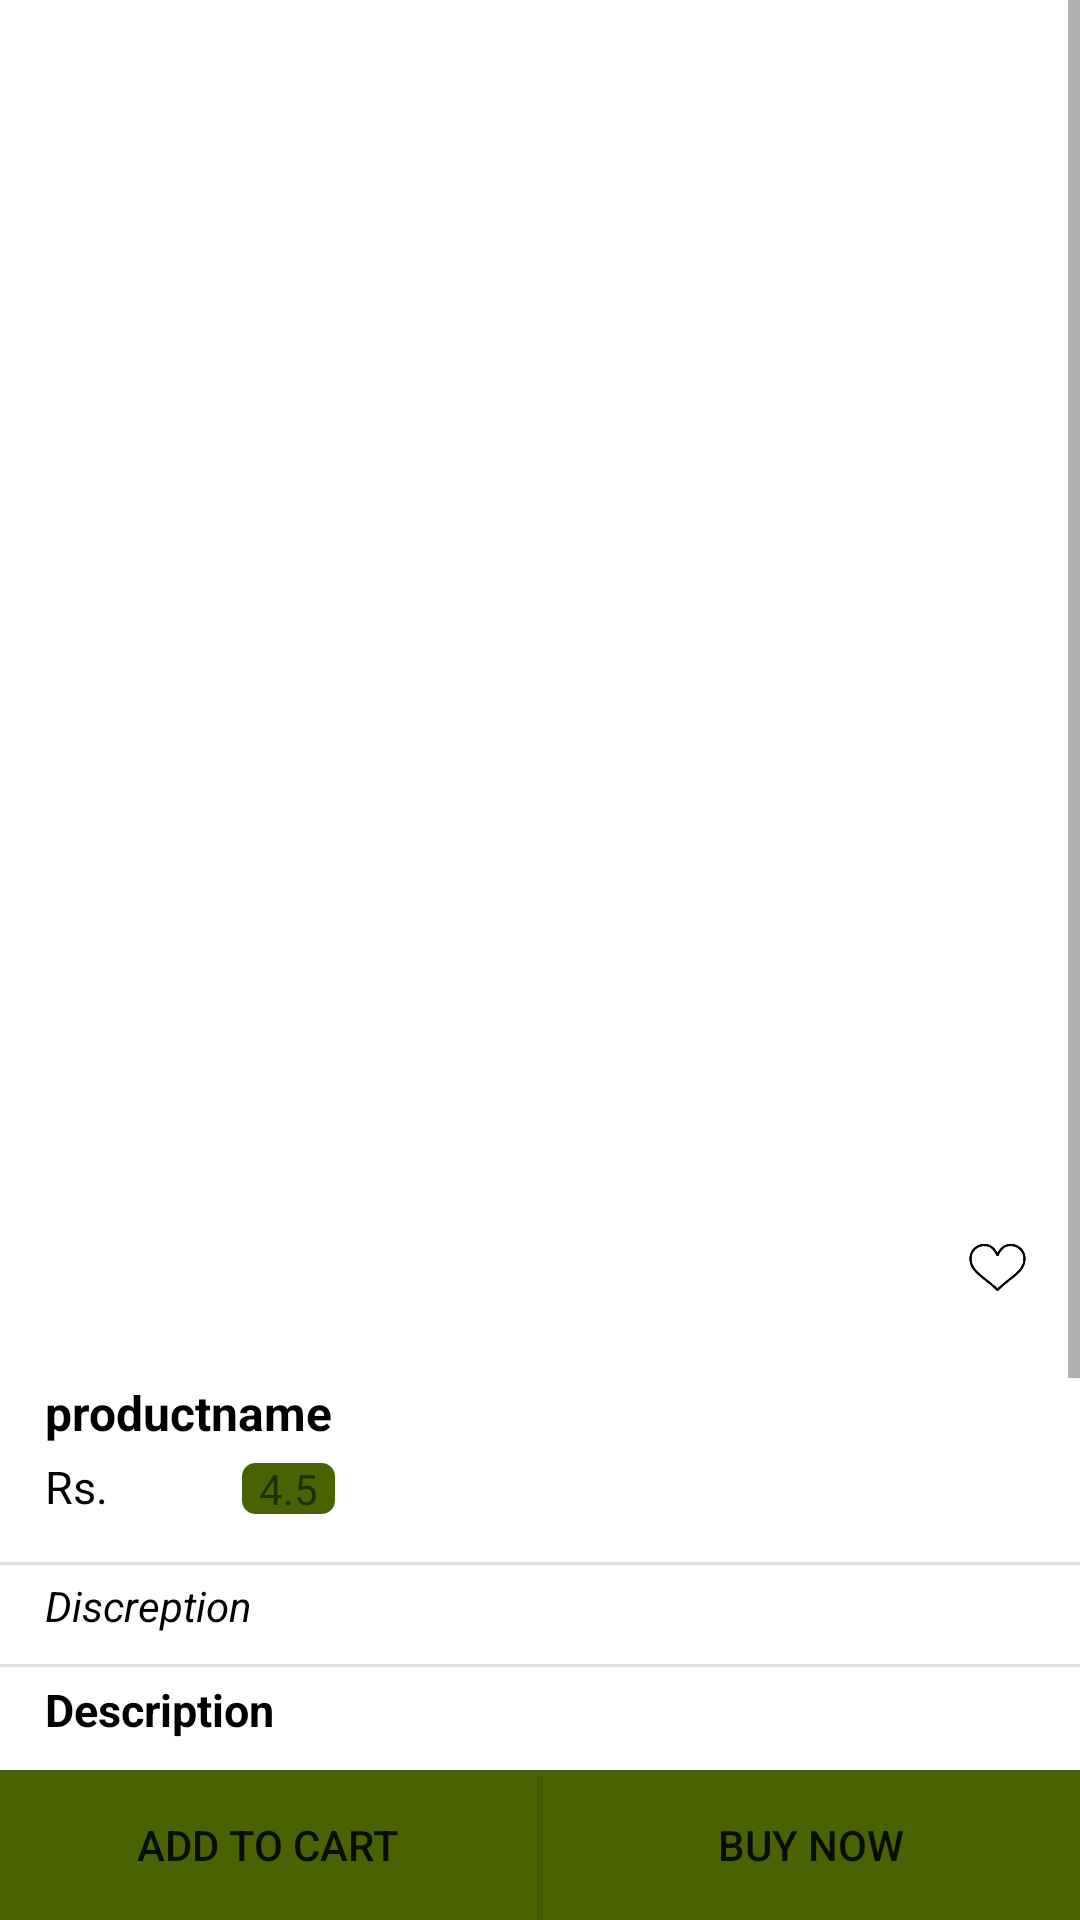

Screen size 1080 × 1920. Icon name, then its box in pixels as (x1, y1, x2, y2):
wishlistunselected: (969, 1244, 1026, 1291)
